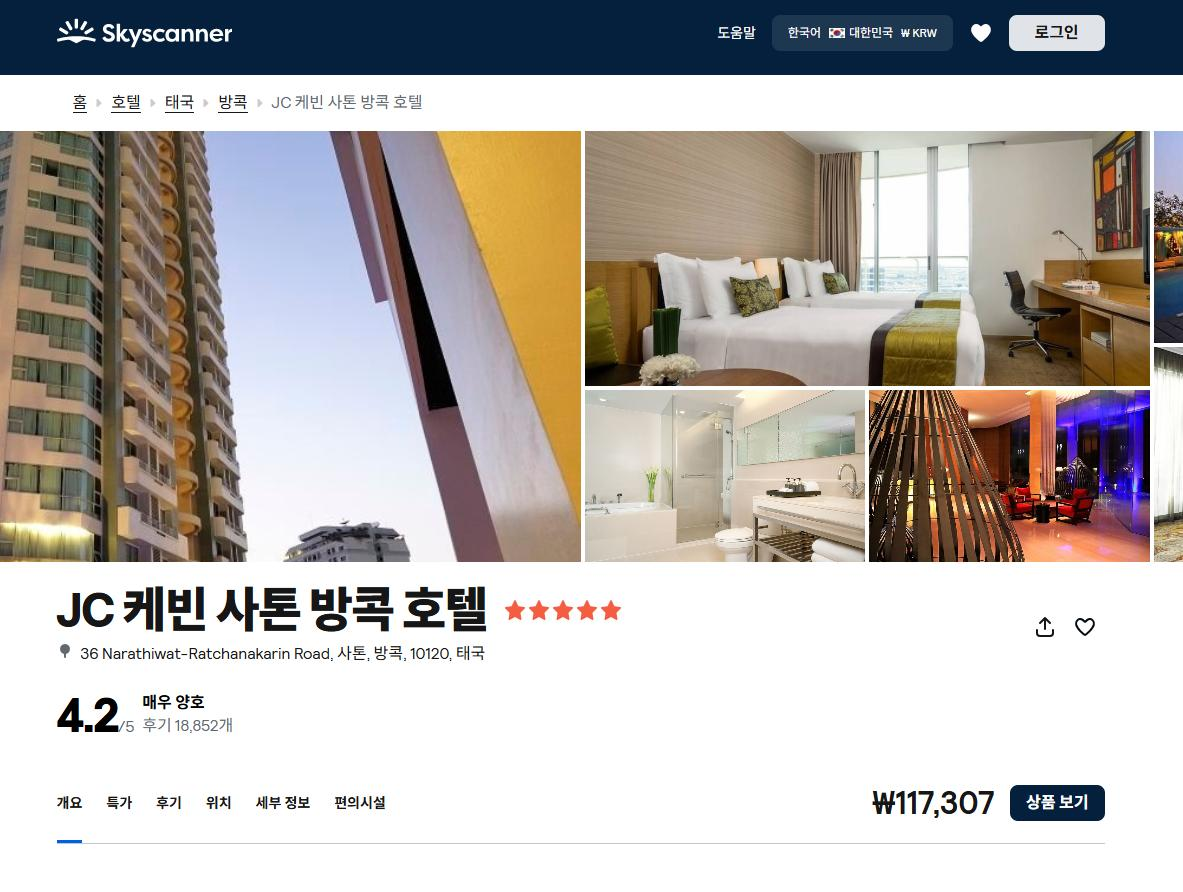button: (271, 89, 440, 111), (780, 24, 949, 45), (1015, 786, 1115, 819), (1009, 18, 1105, 51), (210, 90, 265, 114), (336, 789, 391, 809), (1070, 610, 1108, 637), (114, 88, 150, 114), (250, 794, 308, 810), (160, 89, 195, 113), (198, 791, 234, 813), (56, 793, 98, 811), (71, 91, 103, 114), (711, 25, 756, 39), (1036, 610, 1060, 635), (106, 793, 136, 809), (146, 791, 173, 808), (965, 23, 990, 39)
